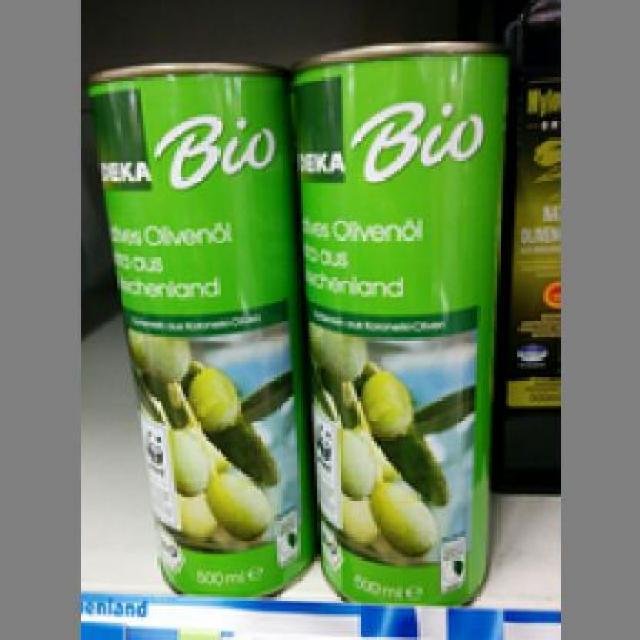Oil: (282, 37, 508, 600), (79, 57, 312, 597)
